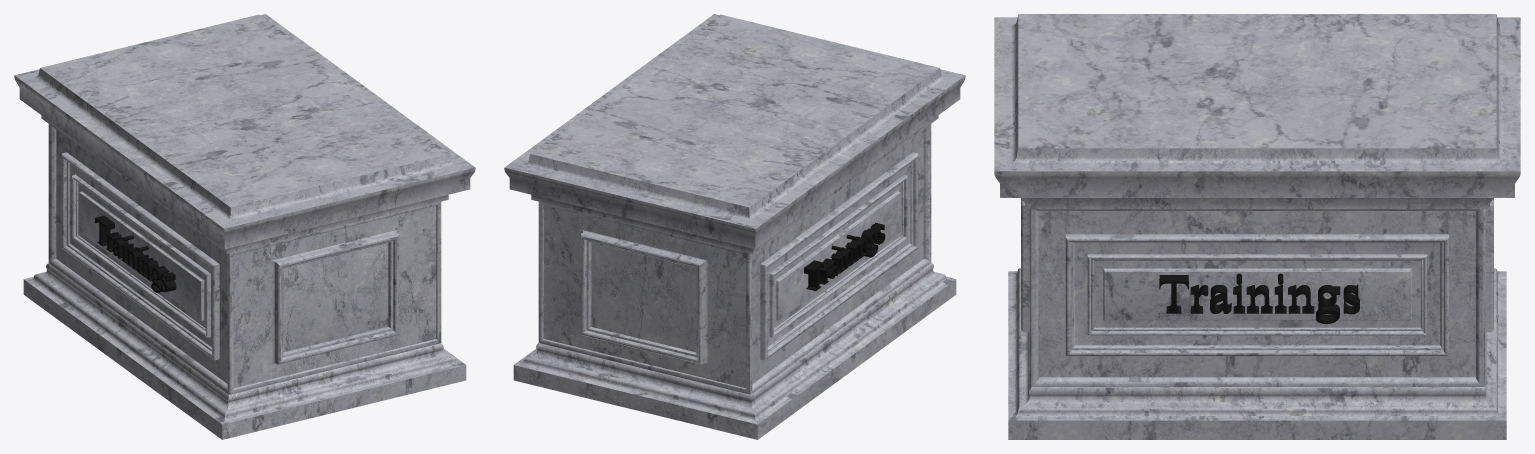
The model's file is skillsLeft.glb.
3 views of the same model, side by side, from view 1: azimuth 30°, elevation 25°; view 2: azimuth 150°, elevation 25°; view 3: azimuth 270°, elevation 25° (orthographic). The views are drawn at different scales.
Parts seen in each view (by area): view 1: pied; view 2: pied; view 3: pied.
Boxes of the visible parts, x1,y1,x2,y2 form: pied: [14, 14, 475, 439]; pied: [504, 14, 965, 439]; pied: [994, 14, 1520, 439].
Size of what is drawn, in the model's own units: 25.5 by 21.96 by 36.87.
2 materials, 1 textured.
